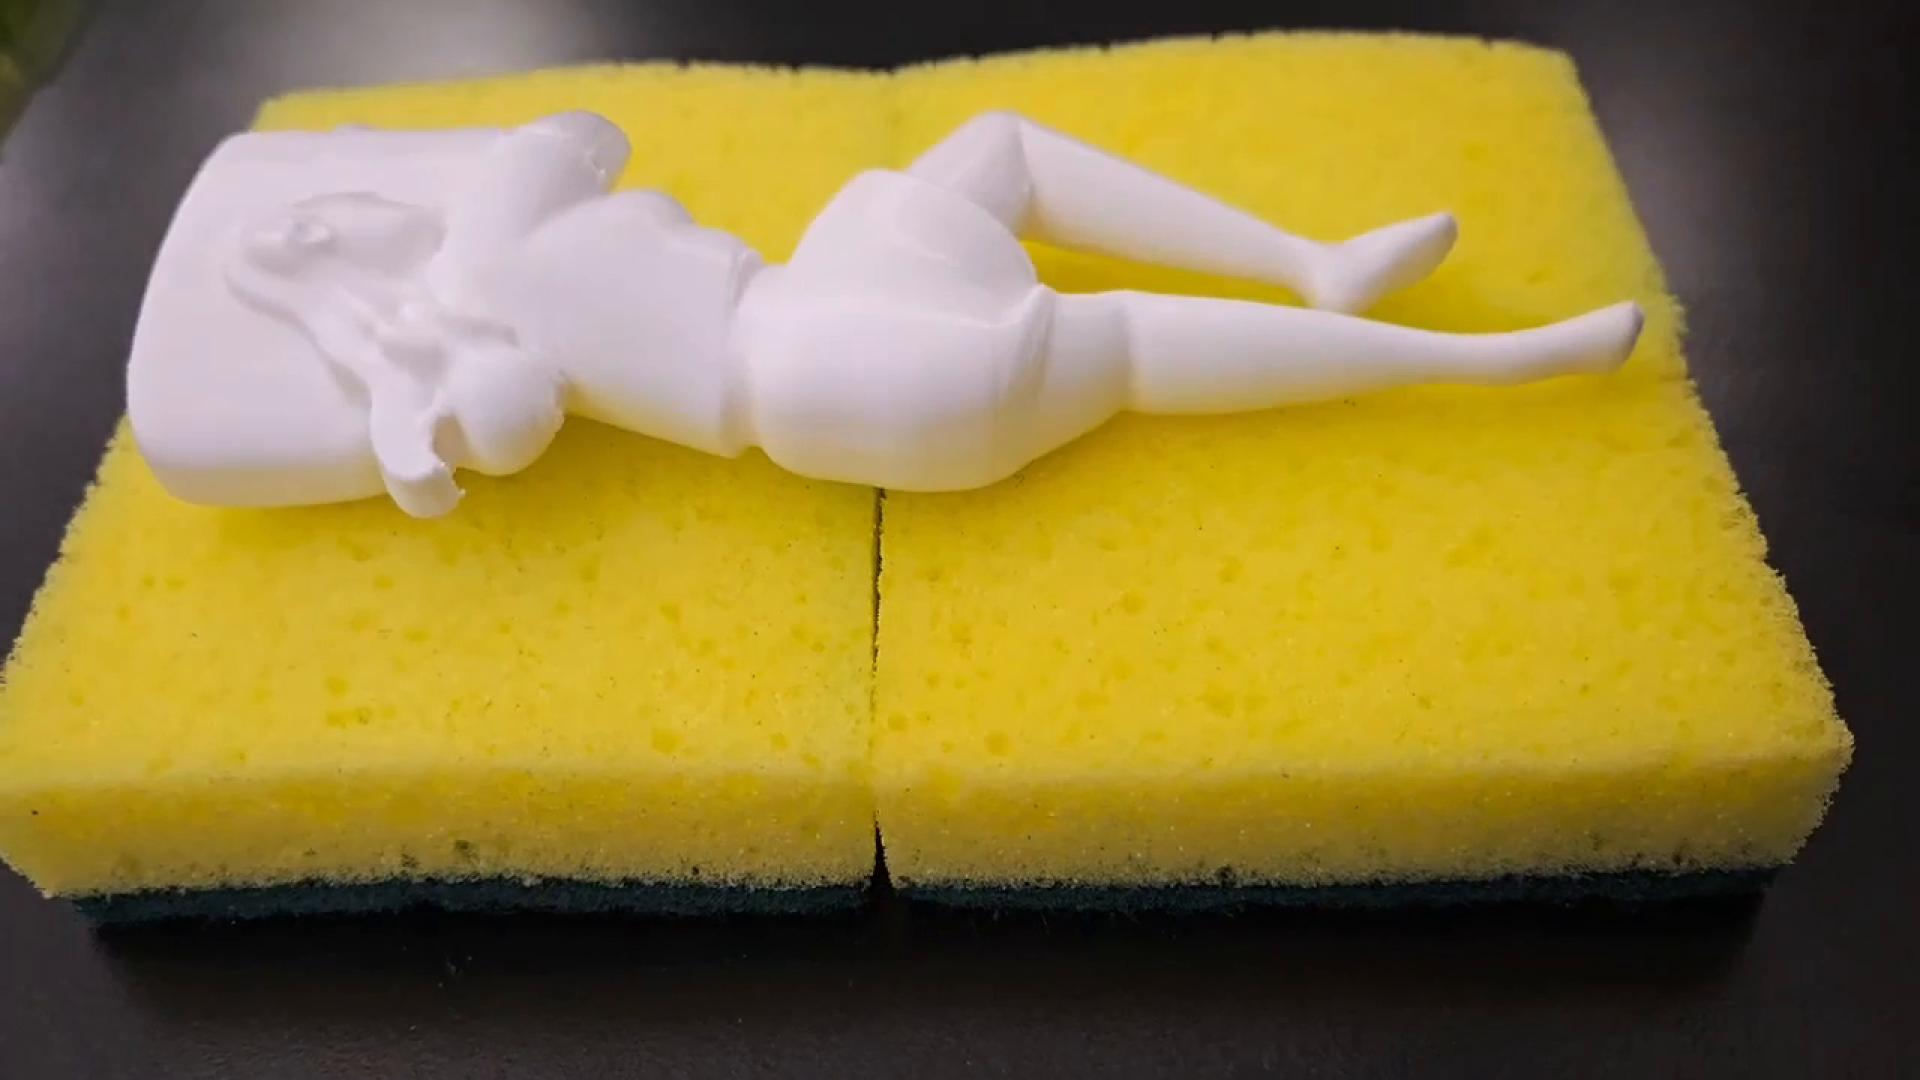Good-style: (123, 105, 1640, 516)
